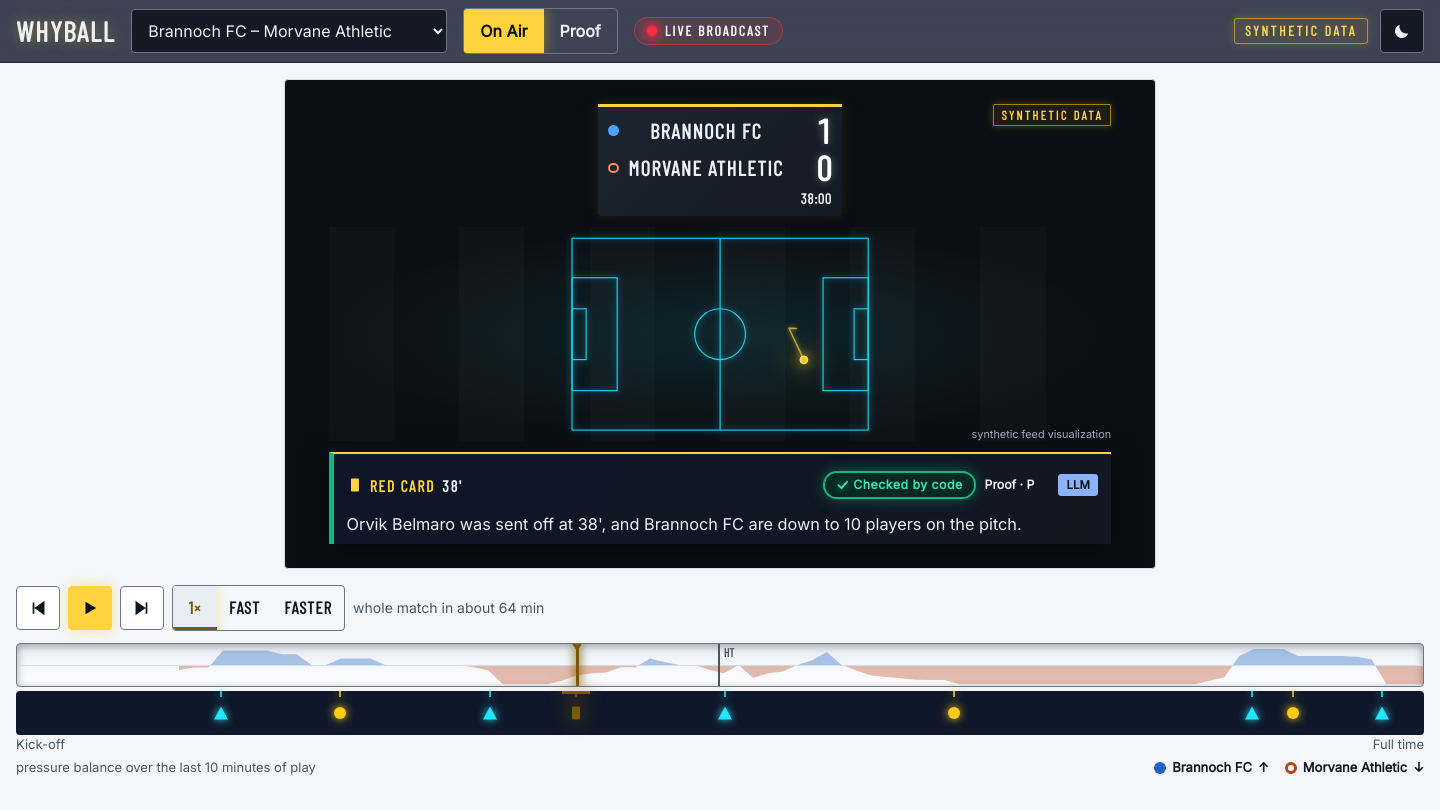
Test: Flip between On Air and Proof › entering Proof pauses playback
This screenshot has width=1440, height=810.
Click the button named "Play".
click(90, 608)  # box [68,586,112,630]
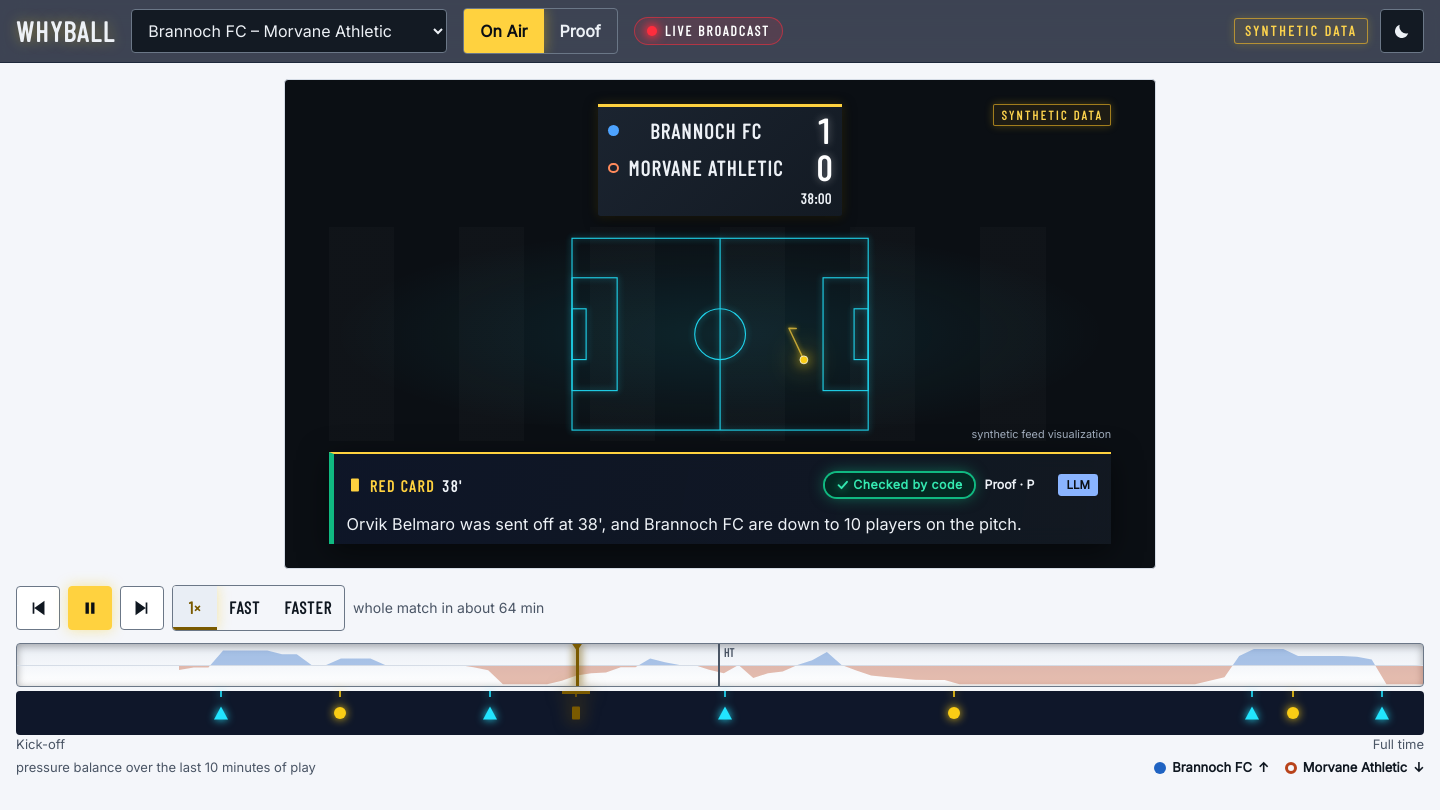
Expected: the button named "Pause" is shown, [68,586,112,630]
Press p
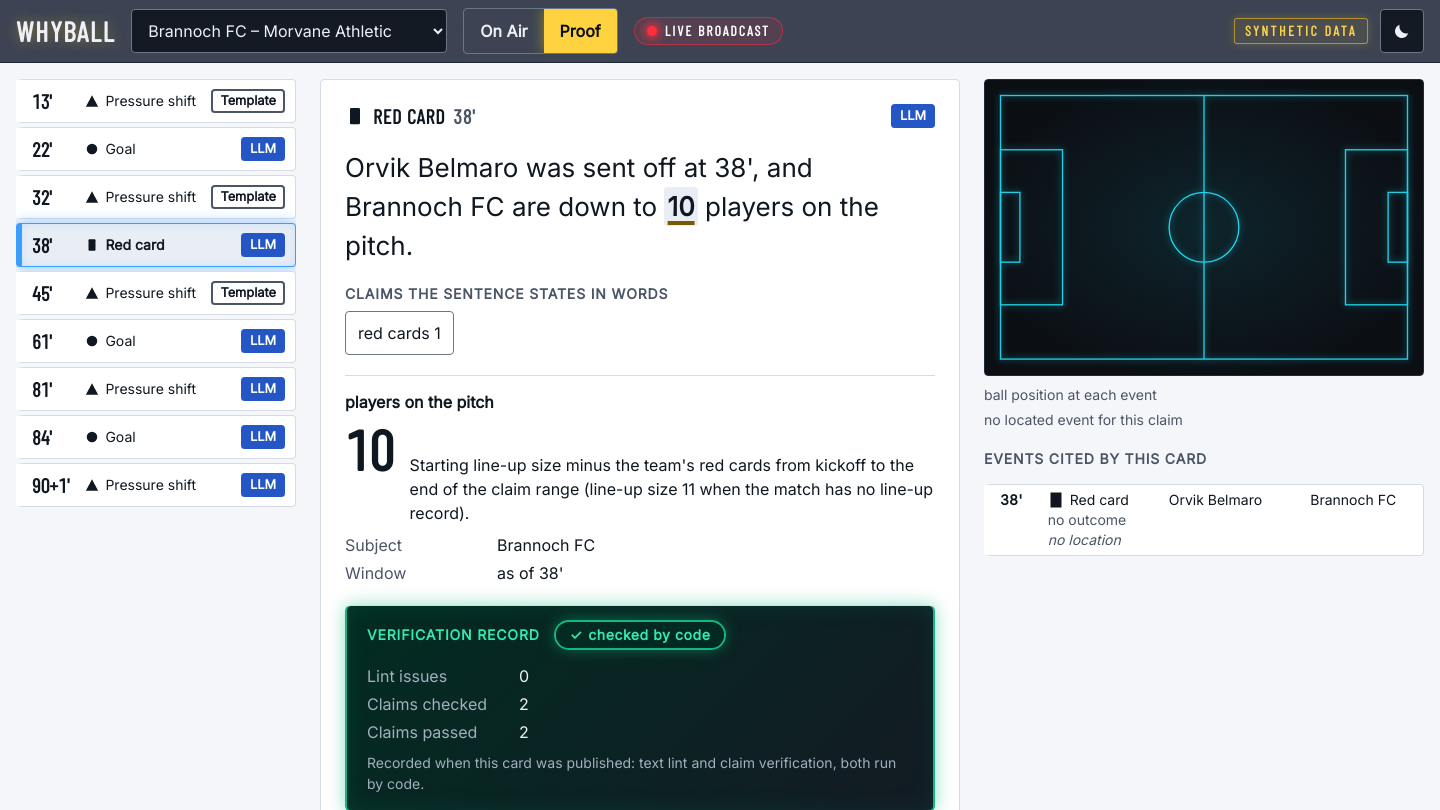
Press p
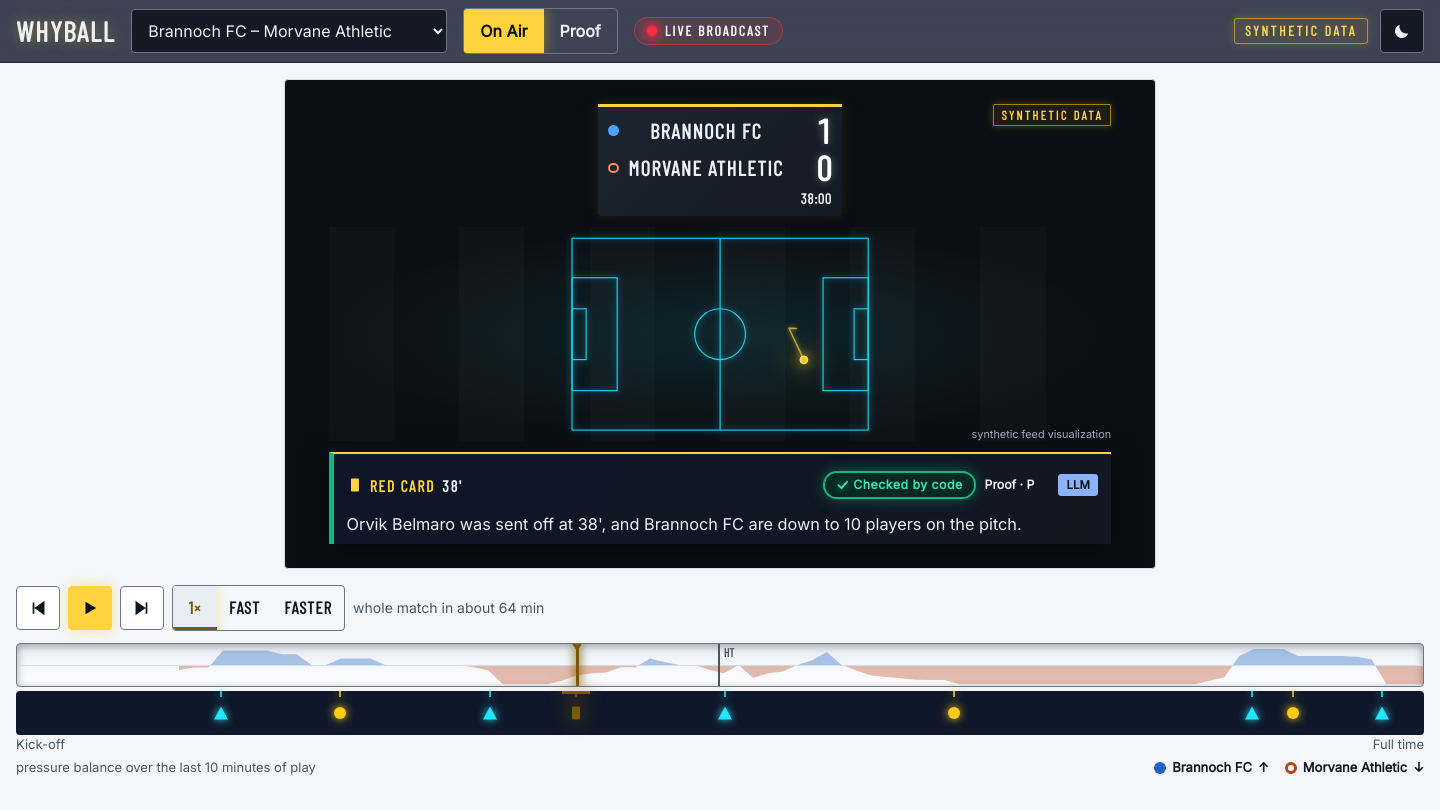
Expected: the button named "Play" is shown, [68,586,112,630]
